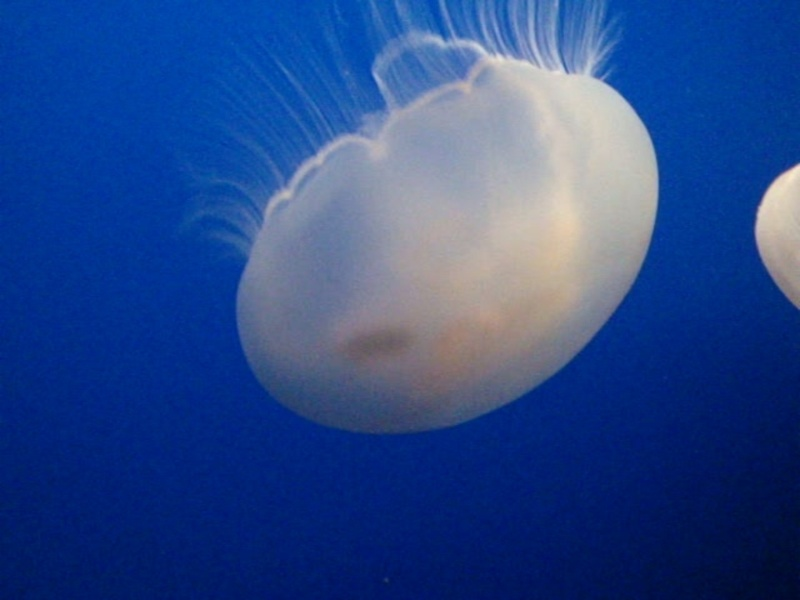Jellyfish: (44, 0, 659, 430), (759, 159, 798, 317)
